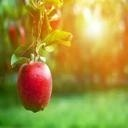apple: (16, 57, 53, 113)
